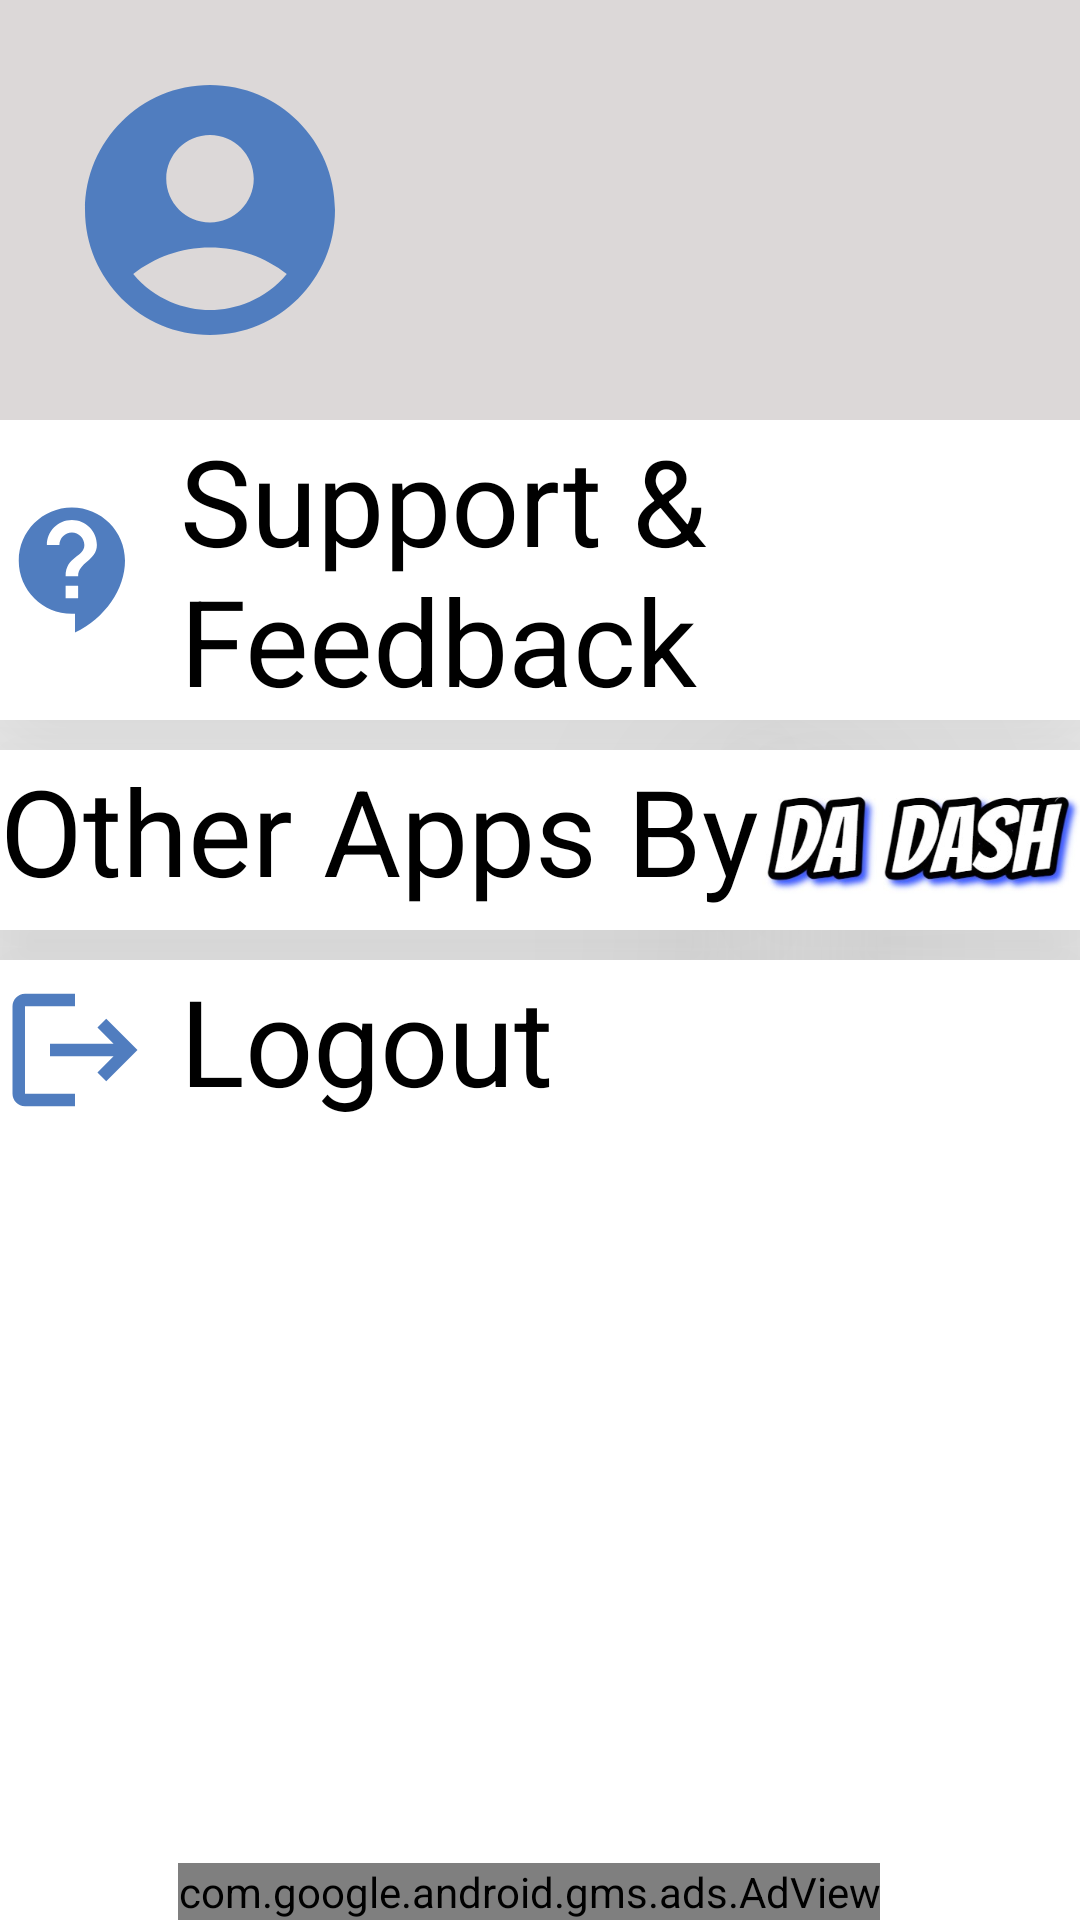

Locate icon controls on the screen. Image size 1080×1920, boxes as (x1,y1,x2,y2).
account circle profile: (85,85,335,335)
